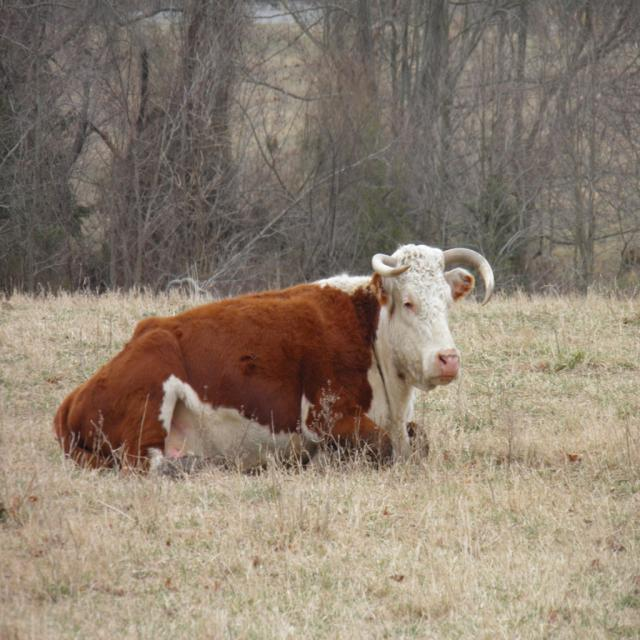Cattle: (53, 244, 494, 474)
